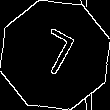L_SW: (30, 26, 80, 84)
